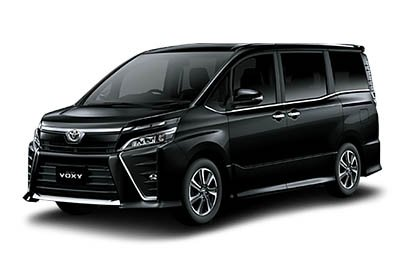mobil: (26, 32, 389, 221)
